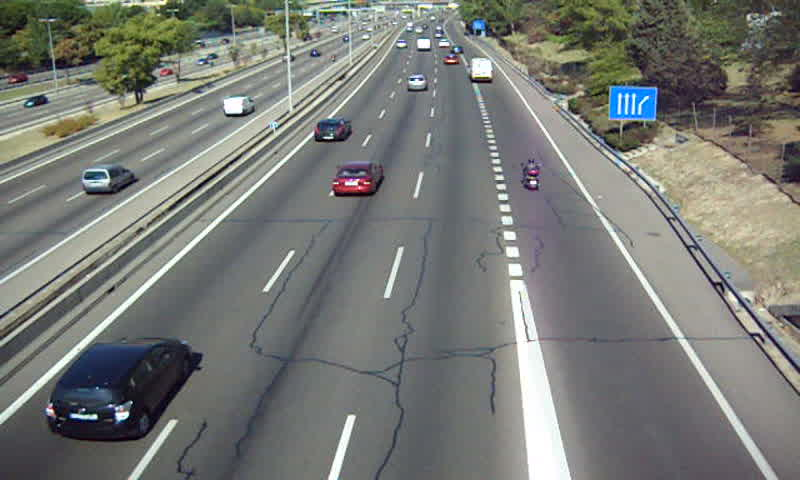car: (47, 337, 191, 440), (331, 162, 382, 197), (315, 118, 352, 143), (405, 74, 427, 91), (443, 54, 460, 67), (394, 38, 407, 47)
motorcycle: (520, 156, 544, 192)
van: (466, 57, 494, 82), (416, 38, 429, 51)
